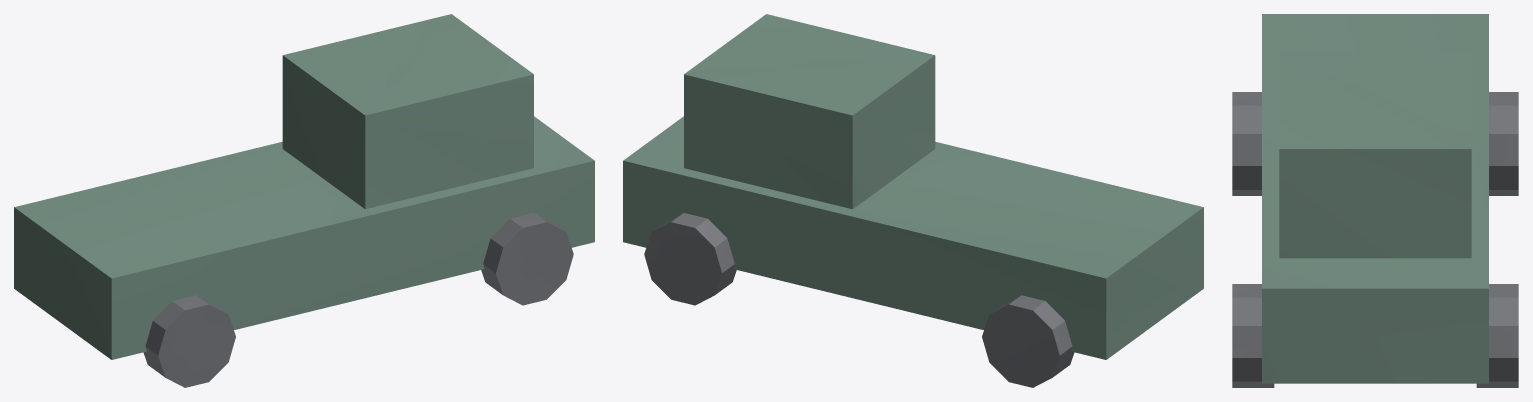
The model's file is train-03.glb.
3 renders of one model, left to right at view 1: azimuth 30°, elevation 25°; view 2: azimuth 150°, elevation 25°; view 3: azimuth 270°, elevation 25°, orthographic. The views are drawn at different scales.
Parts seen in each view (by area): view 1: world; view 2: world; view 3: world.
Part boxes in pixels (left/top/right/bottom): world: left=14, top=14, right=594, bottom=387; world: left=623, top=14, right=1203, bottom=387; world: left=1232, top=14, right=1518, bottom=387.
Size of the model in its own units: 1.86 by 0.7677 by 0.82.
